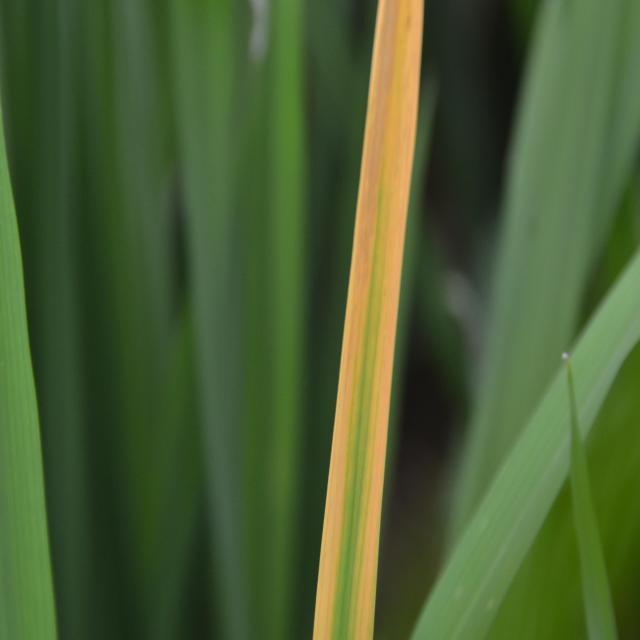Rice Tungro: (293, 18, 429, 633)
